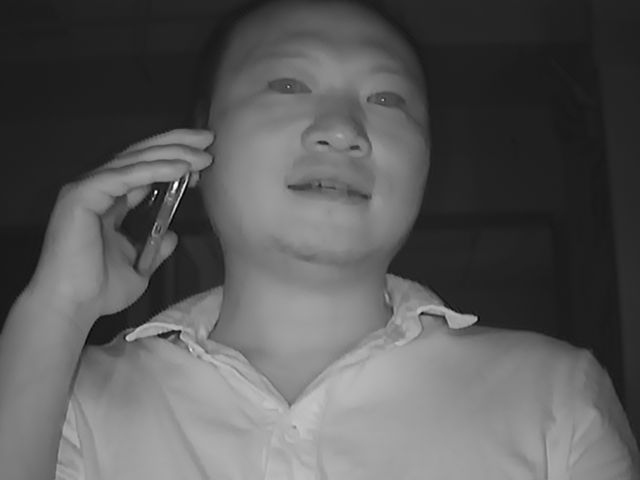hand: (45, 123, 205, 308)
